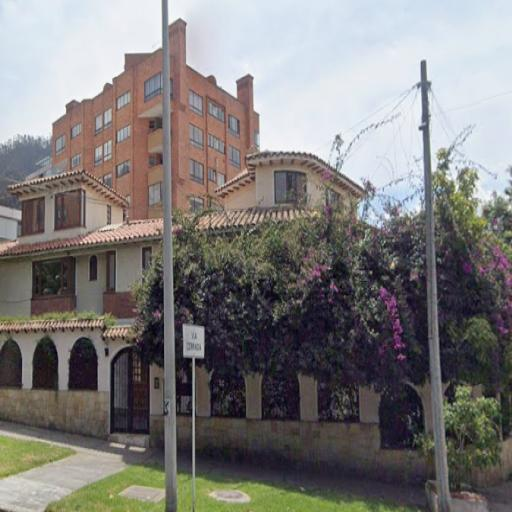Casa: (0, 148, 369, 471), (27, 16, 267, 232)
postes: (415, 51, 454, 512), (160, 0, 180, 512)
